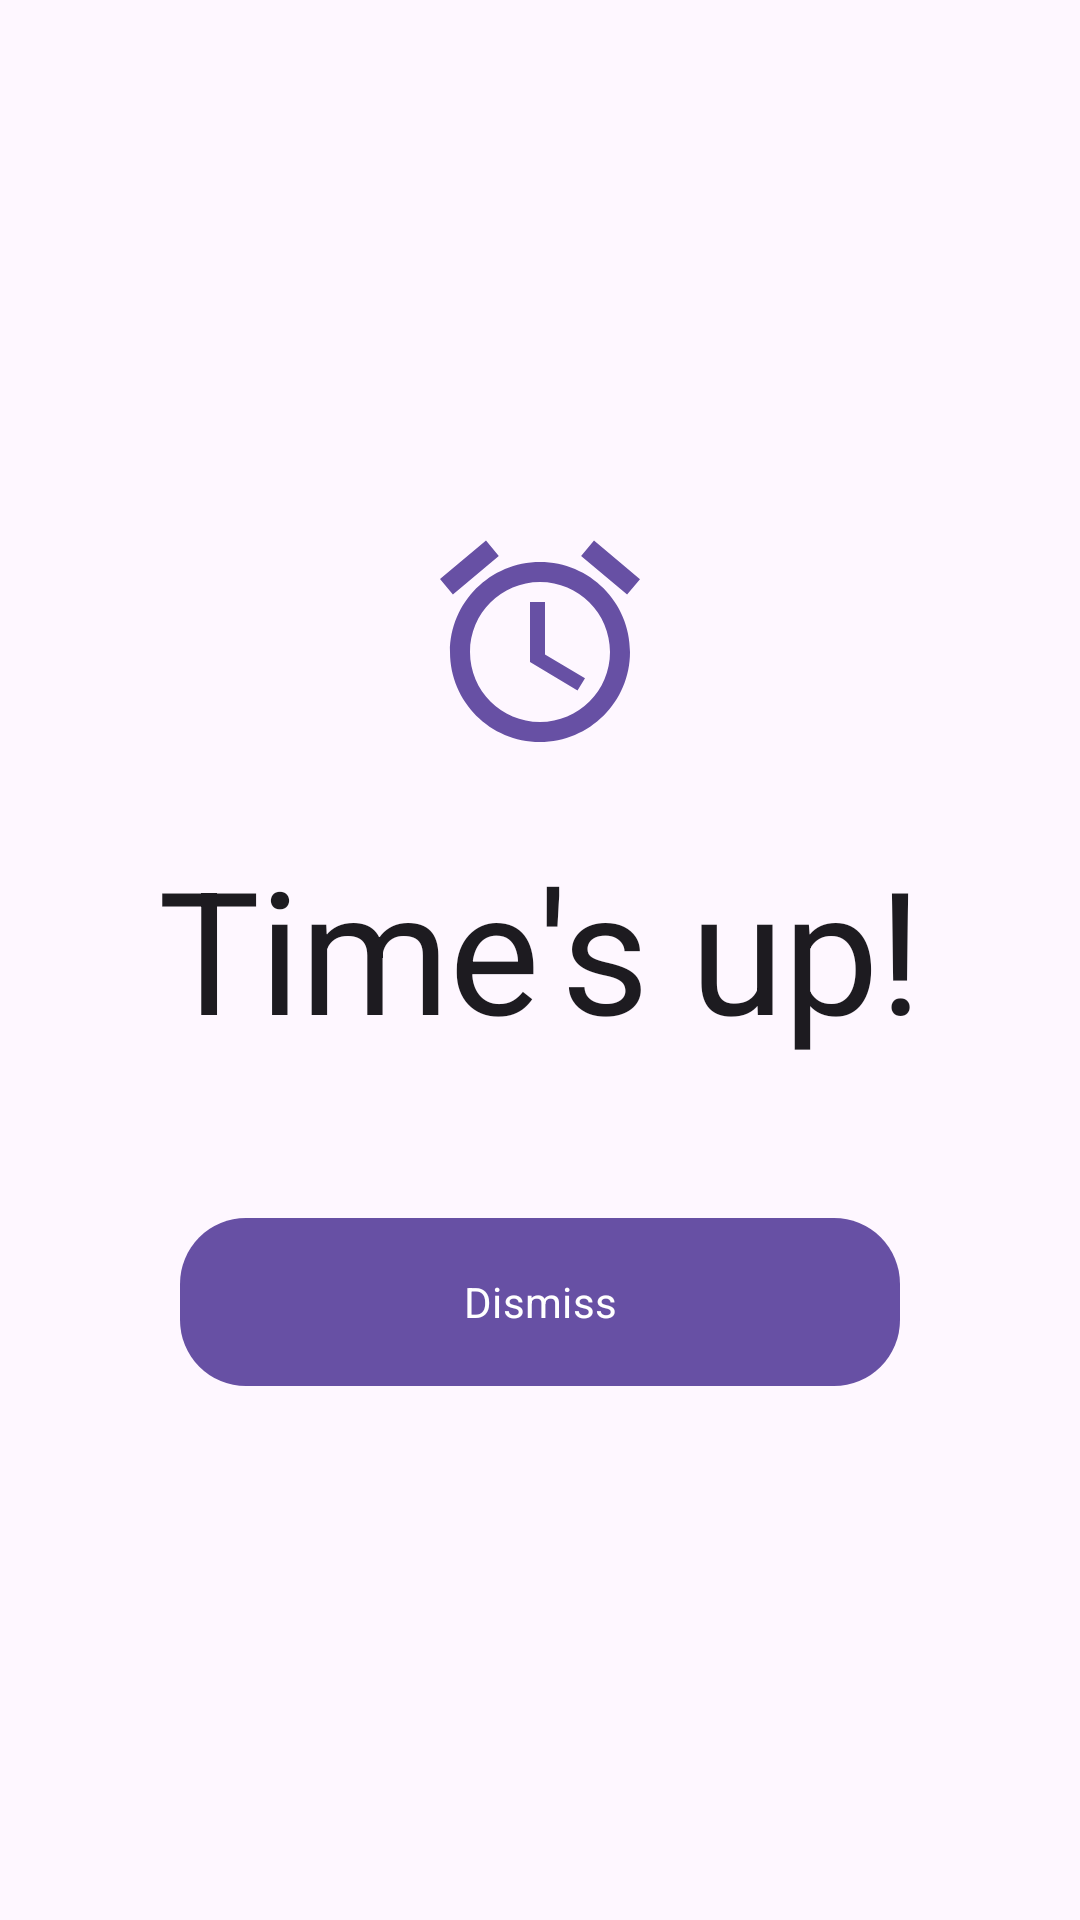

Named icons in this screenshot (1080x1920) and their bounding boxes, (x1, y1, x2, y2):
alarm: (440, 540, 640, 742)
